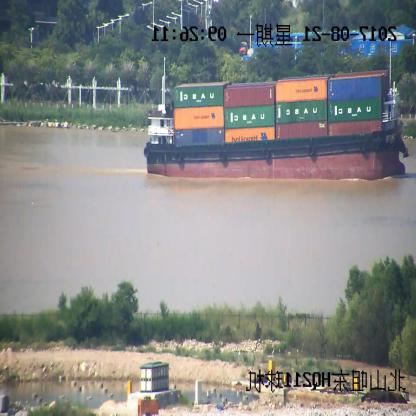Container Ship: (144, 44, 410, 180)
